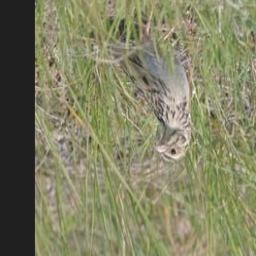Sparrow: (85, 0, 193, 167)
